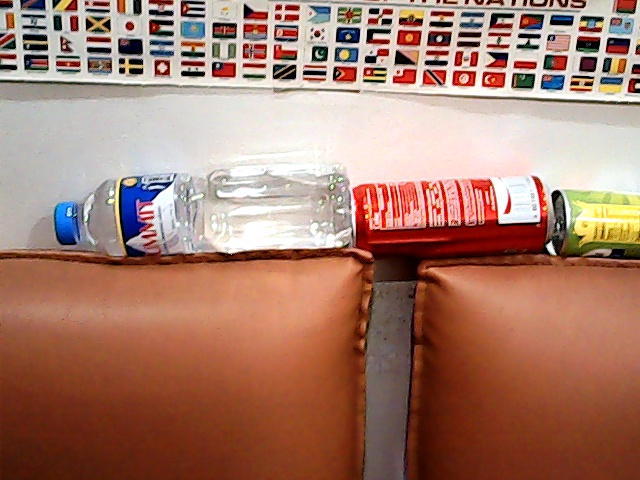Cola: (346, 170, 553, 263)
Pine Juice: (546, 178, 640, 263)
Summit Water: (46, 159, 356, 272)
